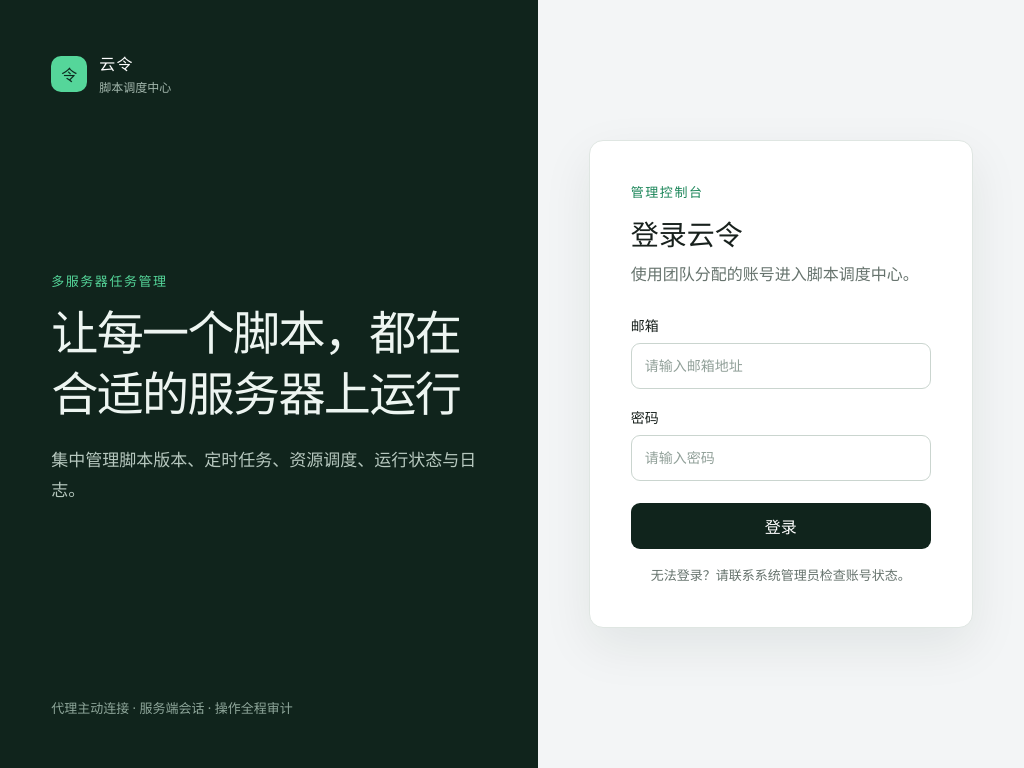
Test: 中文登录页 › 登录失败时在表单旁显示中文错误
Type "ops@example.com" into the field labelled "邮箱" at (781, 366), box [631,343,931,389]
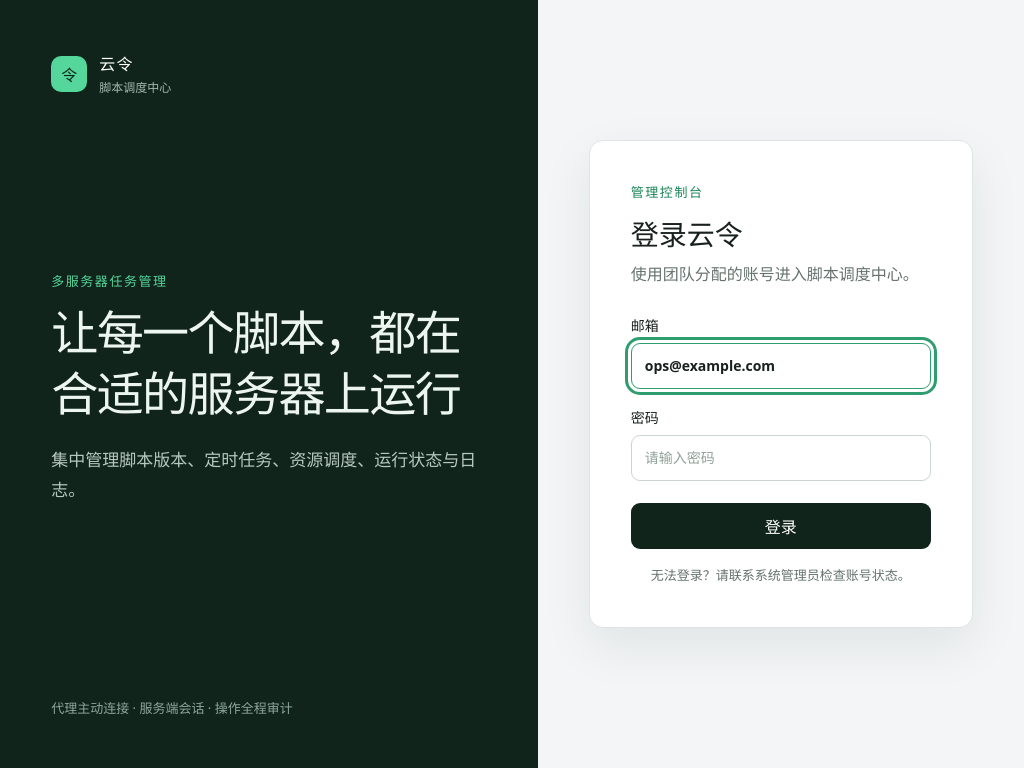
Type "bad" into the password field labelled "密码" at (781, 458), box [631,435,931,481]
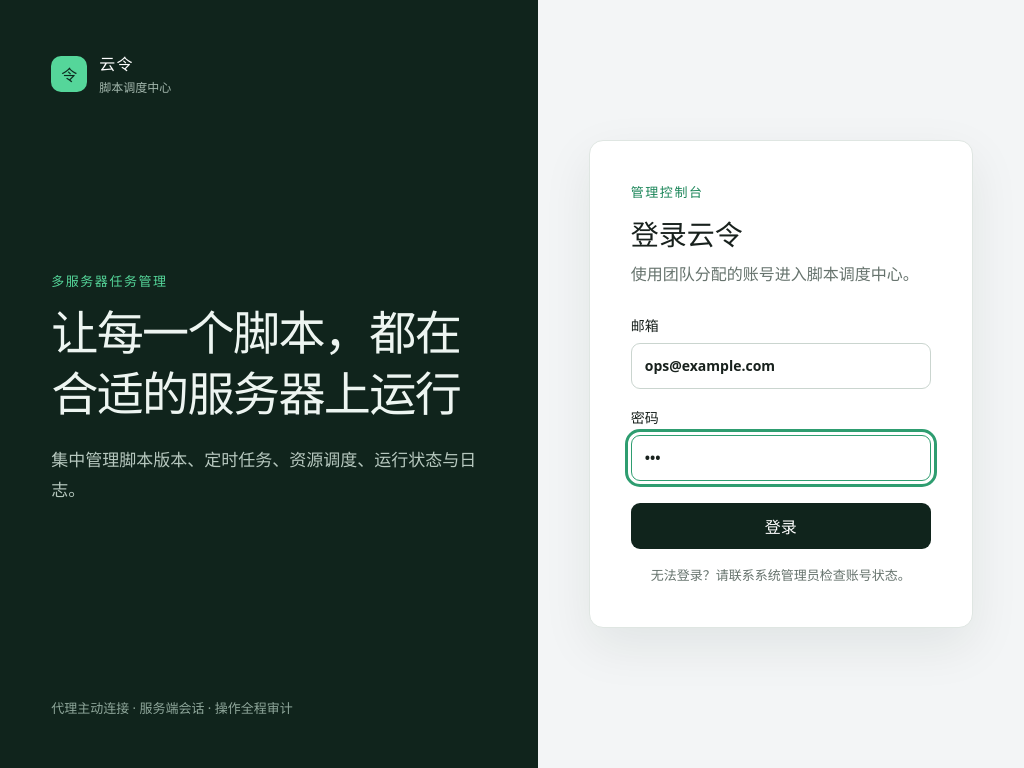
Click the button "登录" at (781, 526), box [631,503,931,549]
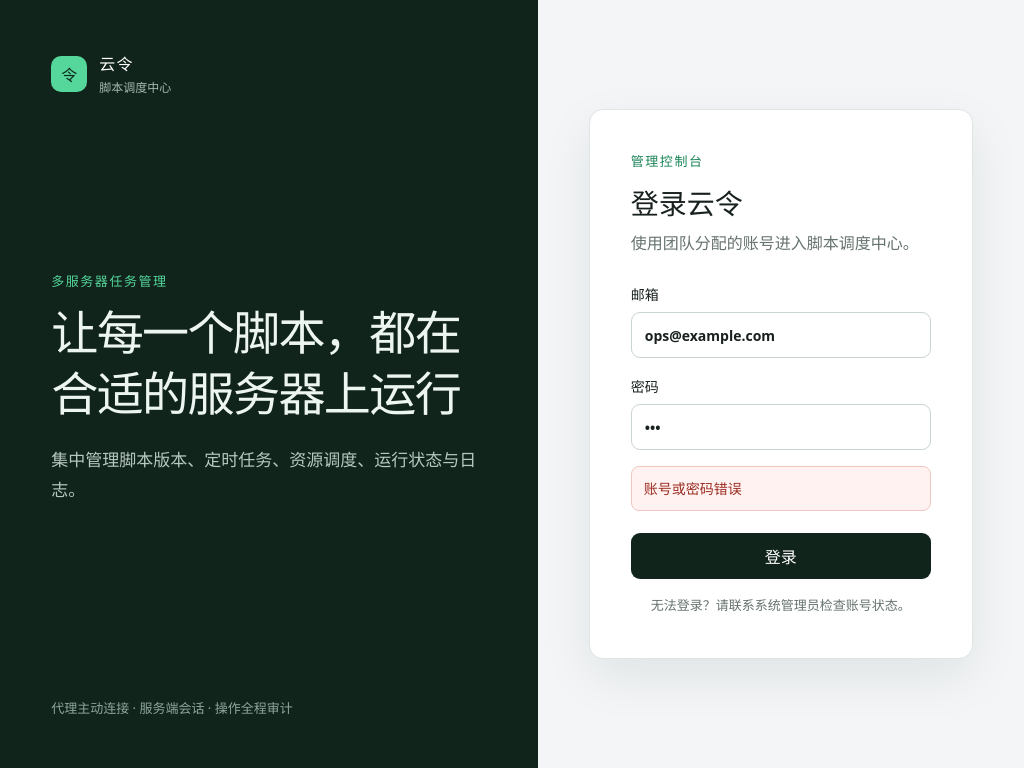
Expected: the message reads "账号或密码错误", [644,480,742,498]
